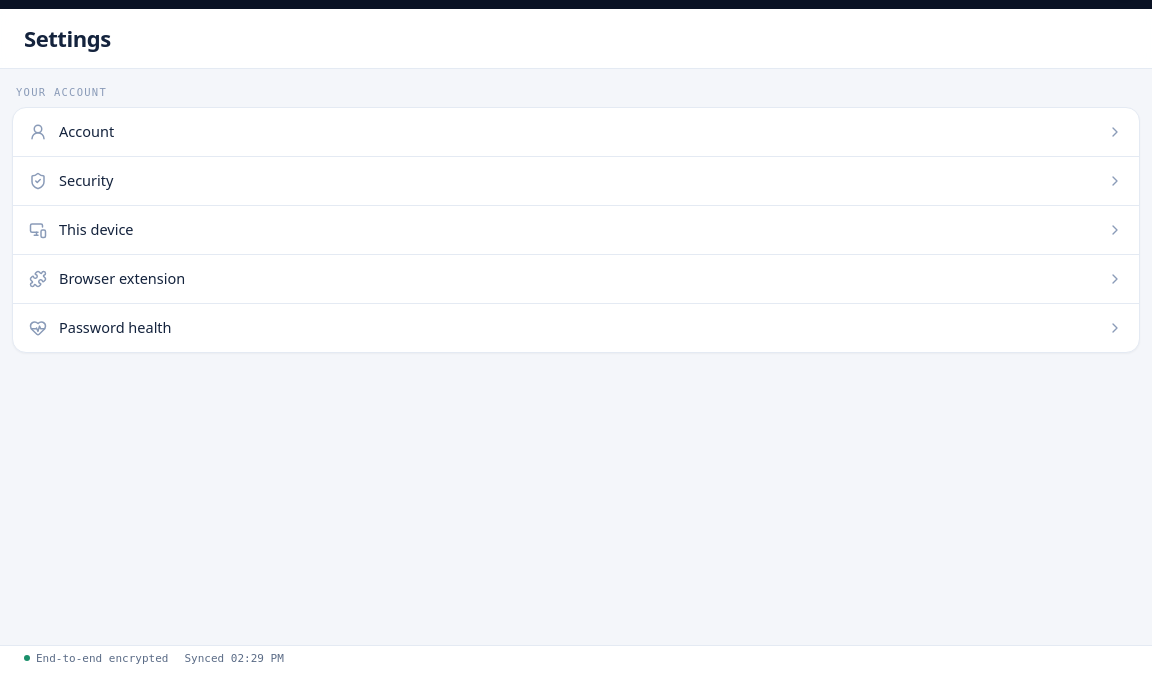
Test case: every page has a URL › phones: /settings is the list of sections; a section has Back to it
This screenshot has width=1152, height=673.
Click the link "This device". click: (96, 229)
box: [29,219,1123,239]
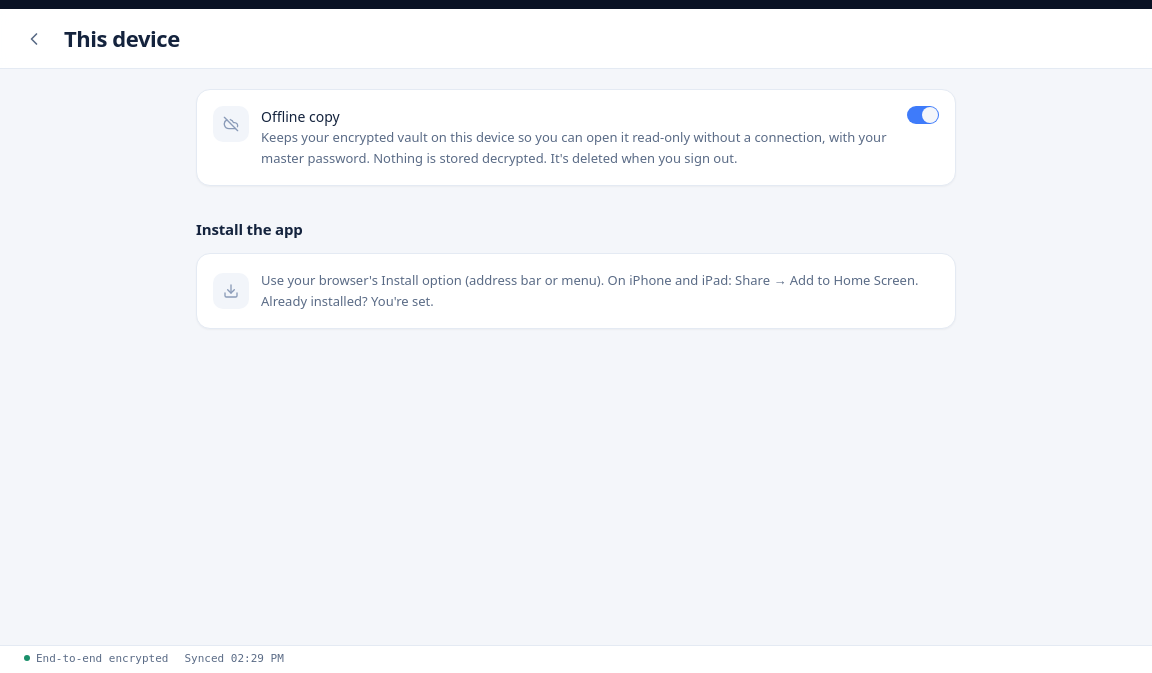
Click the link named "Back to Settings". click: (34, 38)
box: [24,28,44,48]
(page scrolled)
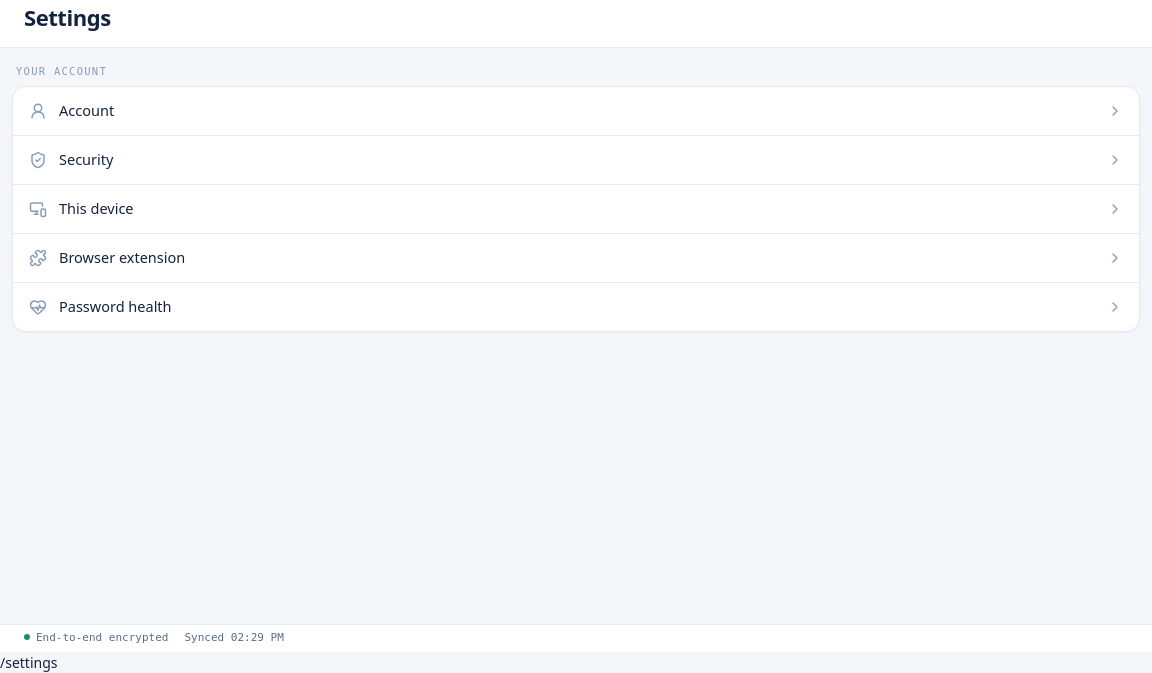
expect the text with test id "where" reads "/settings": met, box [0,653,58,672]
